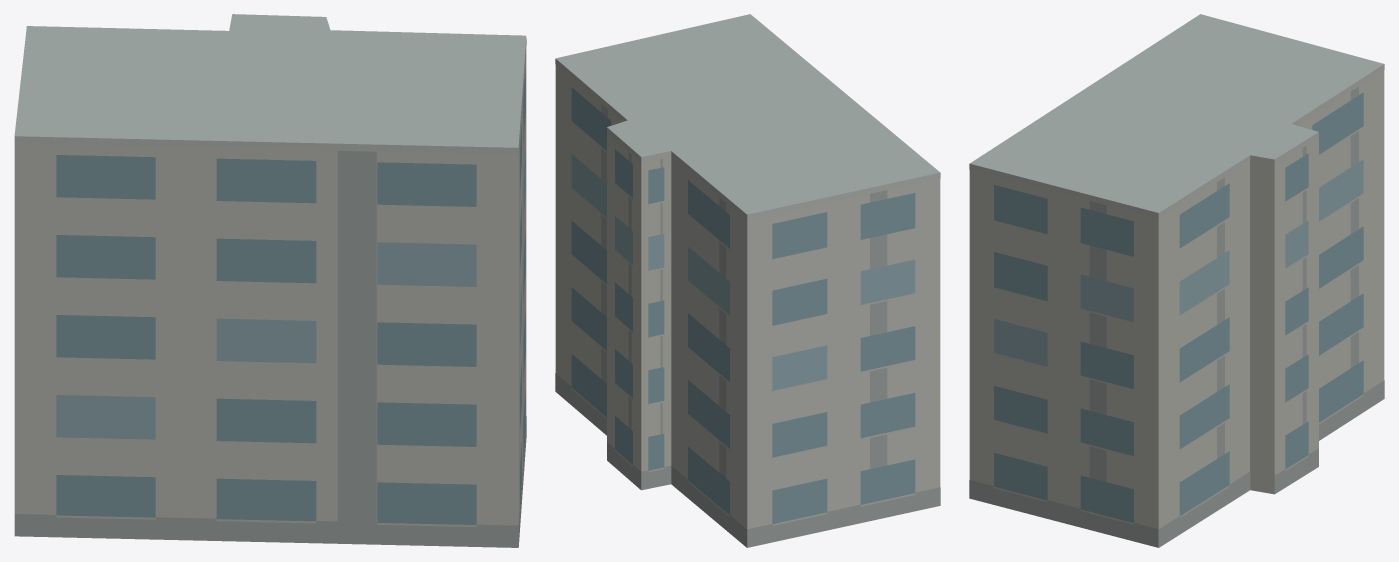
Rendered from survey-upis-32997915.glb.
3 views of the same model, side by side, from view 1: azimuth 30°, elevation 25°; view 2: azimuth 150°, elevation 25°; view 3: azimuth 270°, elevation 25° (orthographic). The views are drawn at different scales.
Parts seen in each view (by area): view 1: survey-upis-32997915.tmp; view 2: survey-upis-32997915.tmp; view 3: survey-upis-32997915.tmp.
Boxes of the visible parts, <box> form: survey-upis-32997915.tmp: <box>14,14,526,547</box>; survey-upis-32997915.tmp: <box>555,14,940,547</box>; survey-upis-32997915.tmp: <box>969,14,1384,547</box>.
Bounding box in the file's own units: 17.34 × 13.6 × 15.28.
